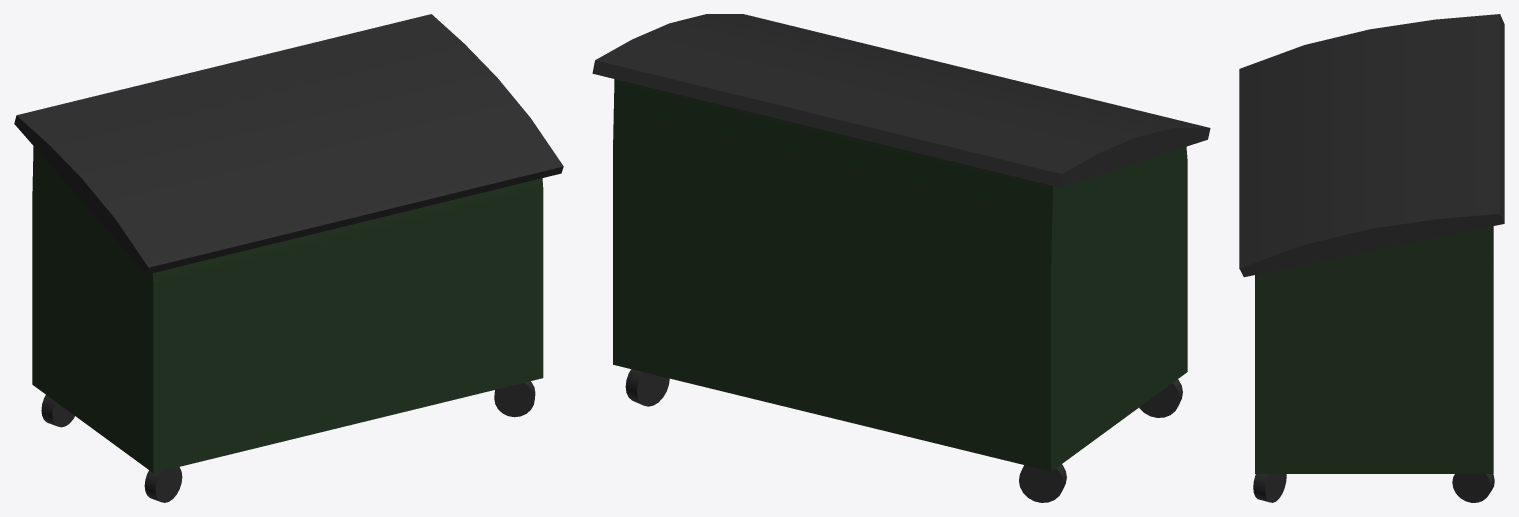
The model's file is Dumpster.fbx.
The picture shows the model from 3 angles, left to right: view 1: azimuth 30°, elevation 25°; view 2: azimuth 150°, elevation 25°; view 3: azimuth 270°, elevation 25°; orthographic projection. The views are drawn at different scales.
Visible parts, largest first — view 1: pCylinder12; view 2: pCylinder12; view 3: pCylinder12.
Part boxes in pixels (x1,y1,x2,y2): pCylinder12: (14,14,563,502); pCylinder12: (592,14,1210,502); pCylinder12: (1239,14,1504,502).
Size of the model in its own units: 198 by 140 by 111.
